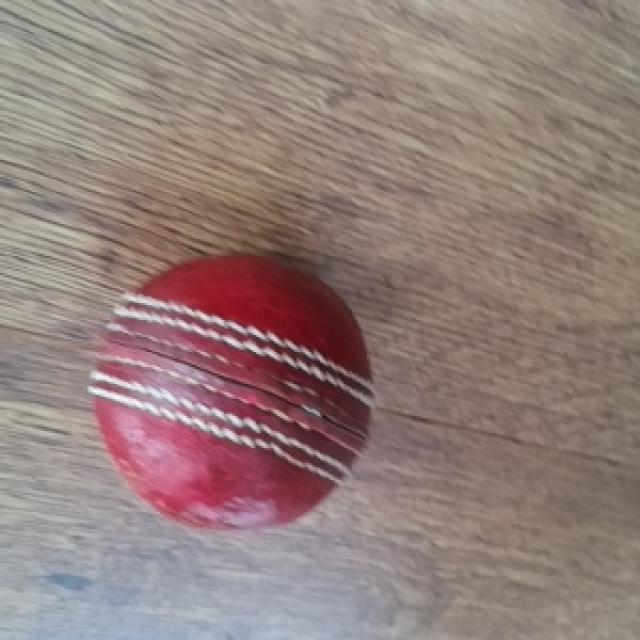ball: (84, 244, 388, 535)
